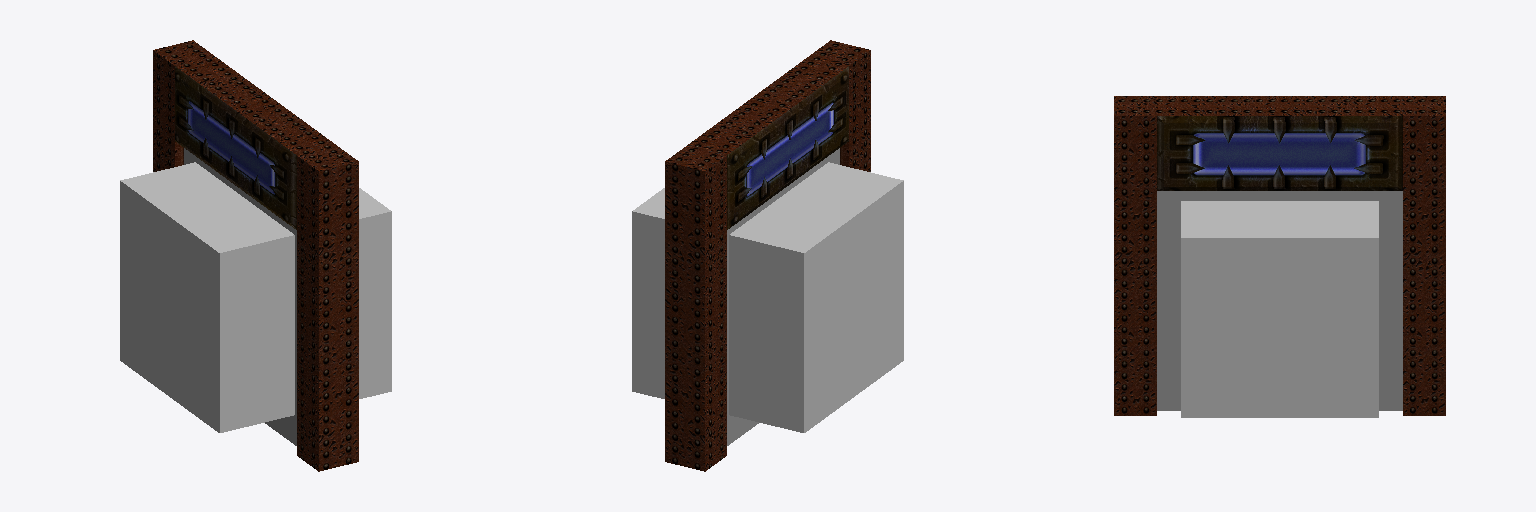
The picture shows the model from 3 angles: view 1: azimuth 30°, elevation 25°; view 2: azimuth 150°, elevation 25°; view 3: azimuth 270°, elevation 25°; orthographic projection.
Parts seen in each view (by area): view 1: trigger_Cube, gates_gates-geometry, door_door-geometry; view 2: trigger_Cube, gates_gates-geometry, door_door-geometry; view 3: gates_gates-geometry, trigger_Cube, door_door-geometry.
Part boxes in pixels (x1,y1,x2,y2): trigger_Cube: (120,162,391,432); gates_gates-geometry: (153,40,358,471); door_door-geometry: (184,148,296,445); trigger_Cube: (632,162,903,432); gates_gates-geometry: (665,40,870,471); door_door-geometry: (727,148,839,445); gates_gates-geometry: (1114,96,1445,415); trigger_Cube: (1181,201,1378,417); door_door-geometry: (1157,191,1402,410).
Bounding box in the file's own units: 0.6 × 1 × 1.
Materials: 3 (1 with a texture image).